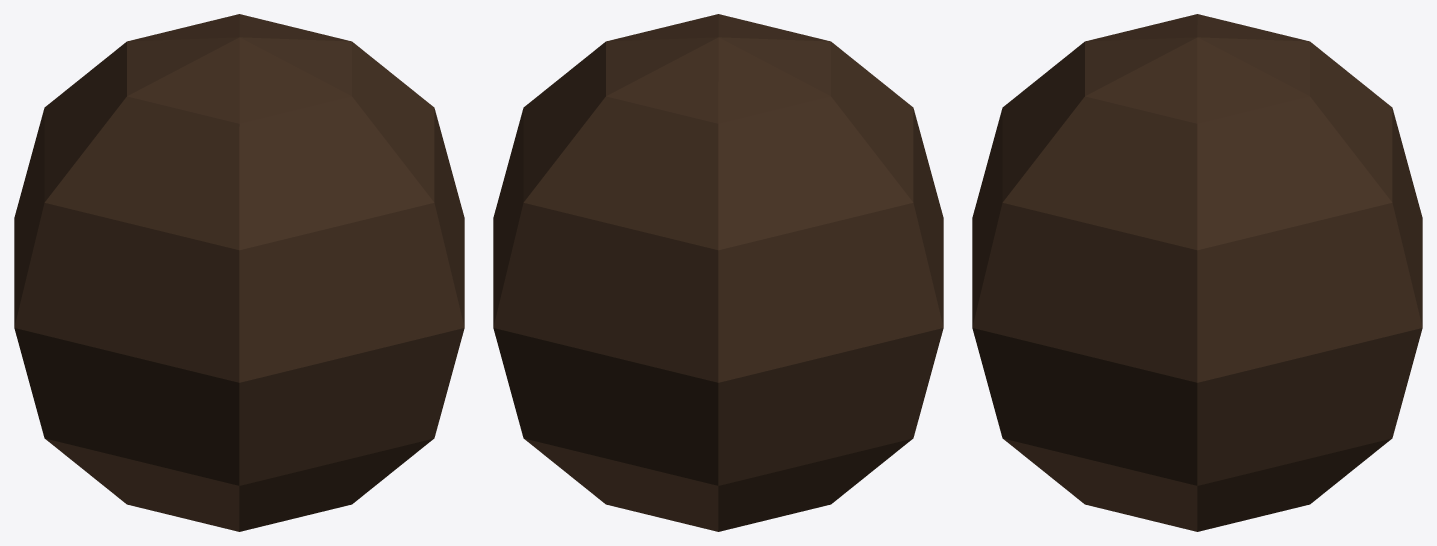
The model's file is FBX_COCONUTS.fbx.
The picture shows the model from 3 angles, left to right: view 1: azimuth 30°, elevation 25°; view 2: azimuth 150°, elevation 25°; view 3: azimuth 270°, elevation 25°; orthographic projection.
Visible parts, largest first — view 1: PRO_COCO; view 2: PRO_COCO; view 3: PRO_COCO.
Part boxes in pixels (x1,y1,x2,y2): PRO_COCO: (14,14,464,531); PRO_COCO: (493,14,943,531); PRO_COCO: (972,14,1422,531).
Bounding box in the file's own units: 19.48 × 19.48 × 16.87.
